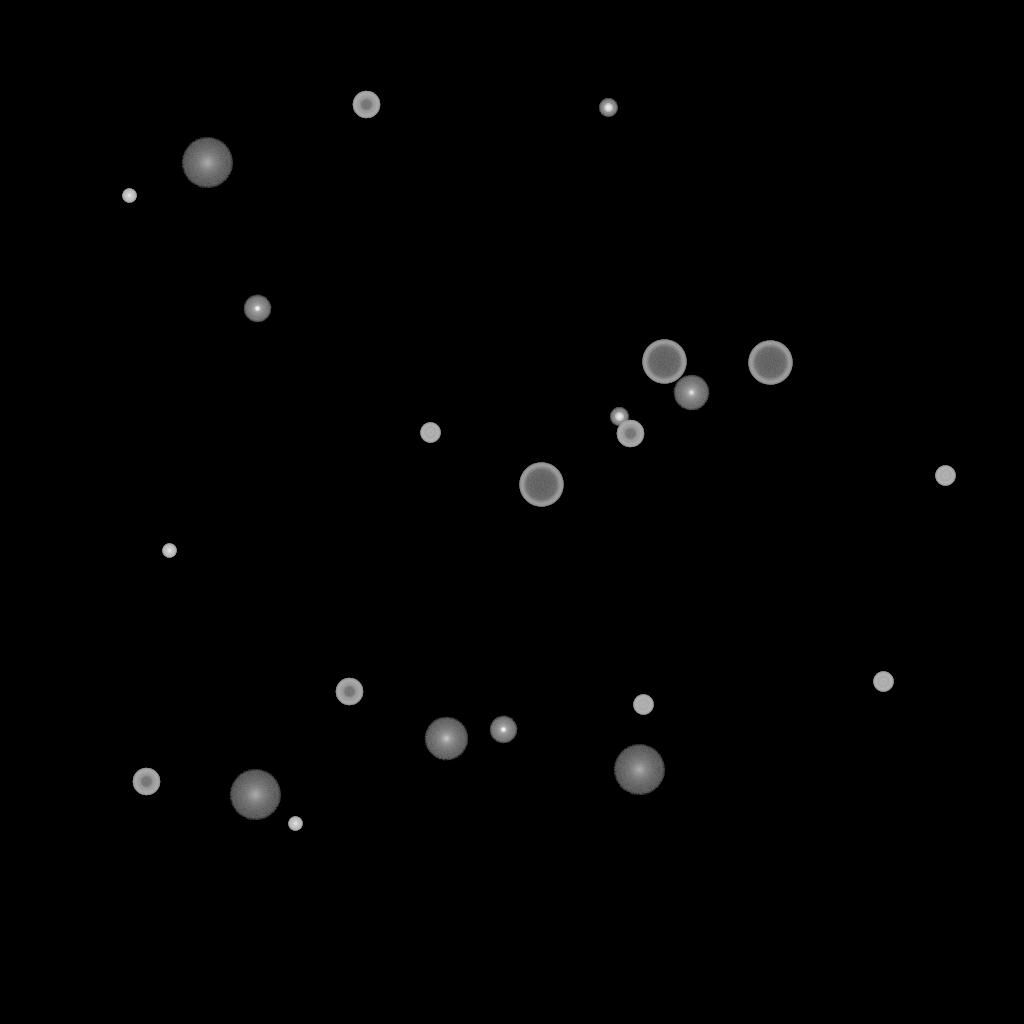depth:-10: (489, 716, 517, 744), (243, 295, 271, 323)
depth:-20: (599, 99, 617, 117), (610, 408, 628, 426)
depth:-30: (288, 817, 302, 831), (122, 189, 136, 203), (162, 544, 176, 558)
depth:-40: (420, 423, 440, 443), (935, 466, 955, 486), (633, 695, 653, 715), (873, 672, 893, 692)
depth:-50: (616, 420, 644, 448), (132, 768, 160, 796), (335, 678, 363, 706), (352, 91, 380, 119)
depth:-70: (519, 463, 563, 507), (748, 341, 792, 385), (642, 340, 686, 384)
depth:0: (673, 375, 709, 411)
depth:10: (424, 717, 468, 761)
depth:20: (181, 138, 233, 188), (229, 770, 281, 820), (613, 745, 665, 795)
